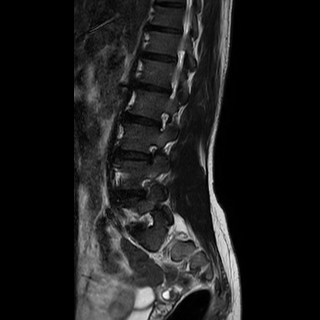RFS0: (147, 106, 175, 136)
RFS2: (137, 173, 164, 206), (141, 138, 167, 171)
